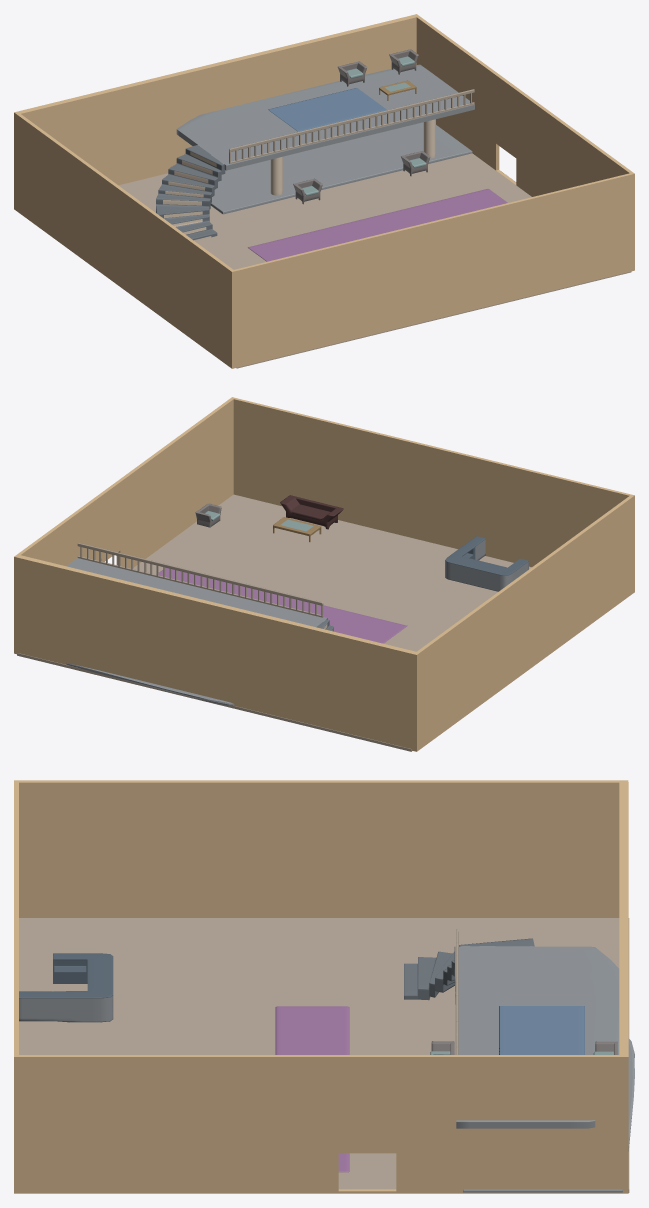
Rendered from LobbwithFloor.fbx.
3 views of the same model, one above another, from view 1: azimuth 30°, elevation 25°; view 2: azimuth 150°, elevation 25°; view 3: azimuth 270°, elevation 25° (orthographic). The views are drawn at different scales.
Visible parts, largest first — view 1: polySurface78, pCube62, polySurface108, polySurface110, polySurface76, polySurface109, polySurface107, polySurface139, polySurface117, polySurface116, polySurface136; view 2: polySurface78, pCube62, polySurface108, polySurface76, polySurface120, polySurface124, polySurface110, polySurface121; view 3: polySurface78, pCube62, polySurface108, polySurface120, polySurface107, polySurface76, polySurface109, polySurface110.
Part boxes in pixels (x1,y1,x2,y2): polySurface78: (14, 14, 634, 368); pCube62: (118, 153, 631, 368); polySurface108: (176, 64, 474, 170); polySurface110: (210, 122, 472, 214); polySurface76: (248, 189, 507, 261); polySurface109: (156, 145, 225, 241); polySurface107: (268, 88, 386, 131); polySurface139: (389, 49, 418, 74); polySurface117: (293, 178, 322, 204); polySurface116: (401, 151, 430, 176); polySurface136: (337, 61, 367, 86); polySurface78: (14, 397, 634, 751); pCube62: (17, 494, 531, 751); polySurface108: (67, 558, 327, 626); polySurface76: (158, 568, 407, 643); polySurface120: (445, 536, 528, 591); polySurface124: (280, 495, 343, 529); polySurface110: (65, 663, 234, 705); polySurface121: (273, 517, 321, 542); polySurface78: (14, 780, 628, 1193); pCube62: (19, 918, 629, 1192); polySurface108: (454, 946, 619, 1128); polySurface120: (19, 953, 113, 1022); polySurface107: (499, 1006, 584, 1054); polySurface76: (275, 1006, 349, 1172); polySurface109: (404, 938, 534, 1000); polySurface110: (463, 1038, 634, 1192).
Bounding box in the file's own units: 71.8 × 17.29 × 67.79.
